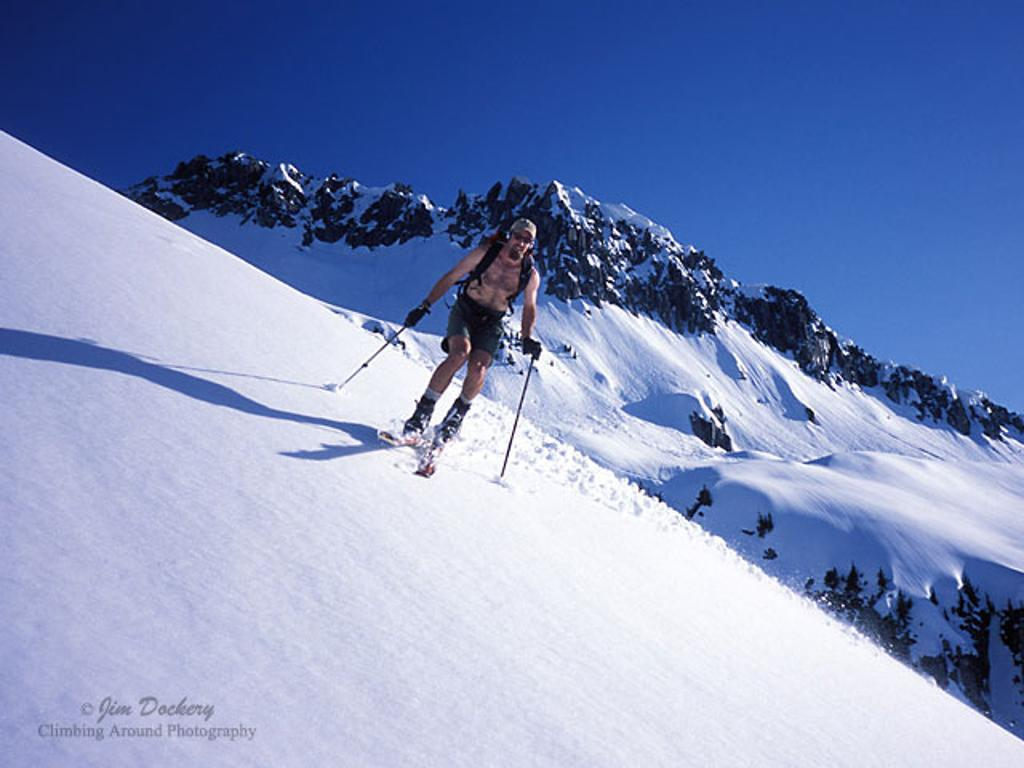face: (510, 230, 532, 257)
